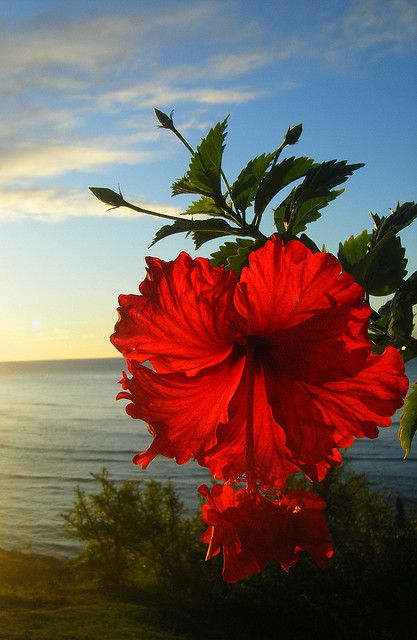Hibiscus: (115, 236, 395, 577), (85, 178, 151, 217), (145, 94, 192, 148), (278, 109, 317, 152)
